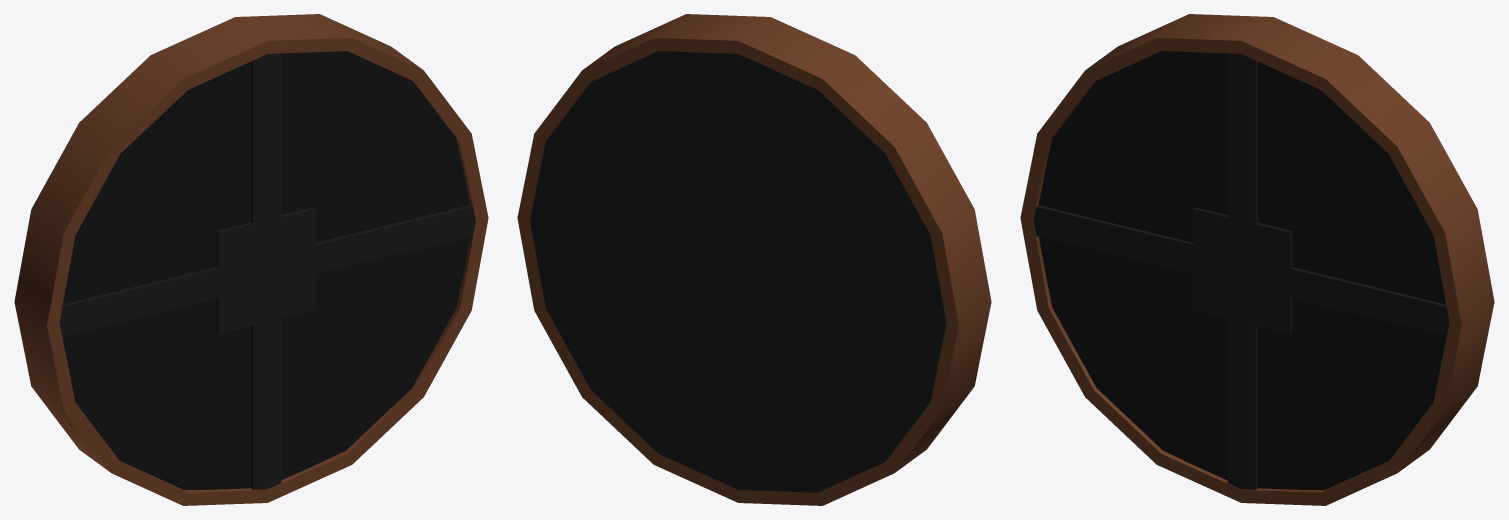
File: engine_hot_emitter_annulus.obj
3 views of the same model, side by side, from view 1: azimuth 30°, elevation 25°; view 2: azimuth 150°, elevation 25°; view 3: azimuth 330°, elevation 25° (orthographic).
Parts seen in each view (by area): view 1: engine_hot_emitter_annulus; view 2: engine_hot_emitter_annulus; view 3: engine_hot_emitter_annulus.
Part boxes in pixels (x1,y1,x2,y2): engine_hot_emitter_annulus: [14, 14, 488, 505]; engine_hot_emitter_annulus: [517, 14, 991, 505]; engine_hot_emitter_annulus: [1020, 14, 1494, 505].
Bounding box in the file's own units: 2.82 × 2.82 × 0.36.
